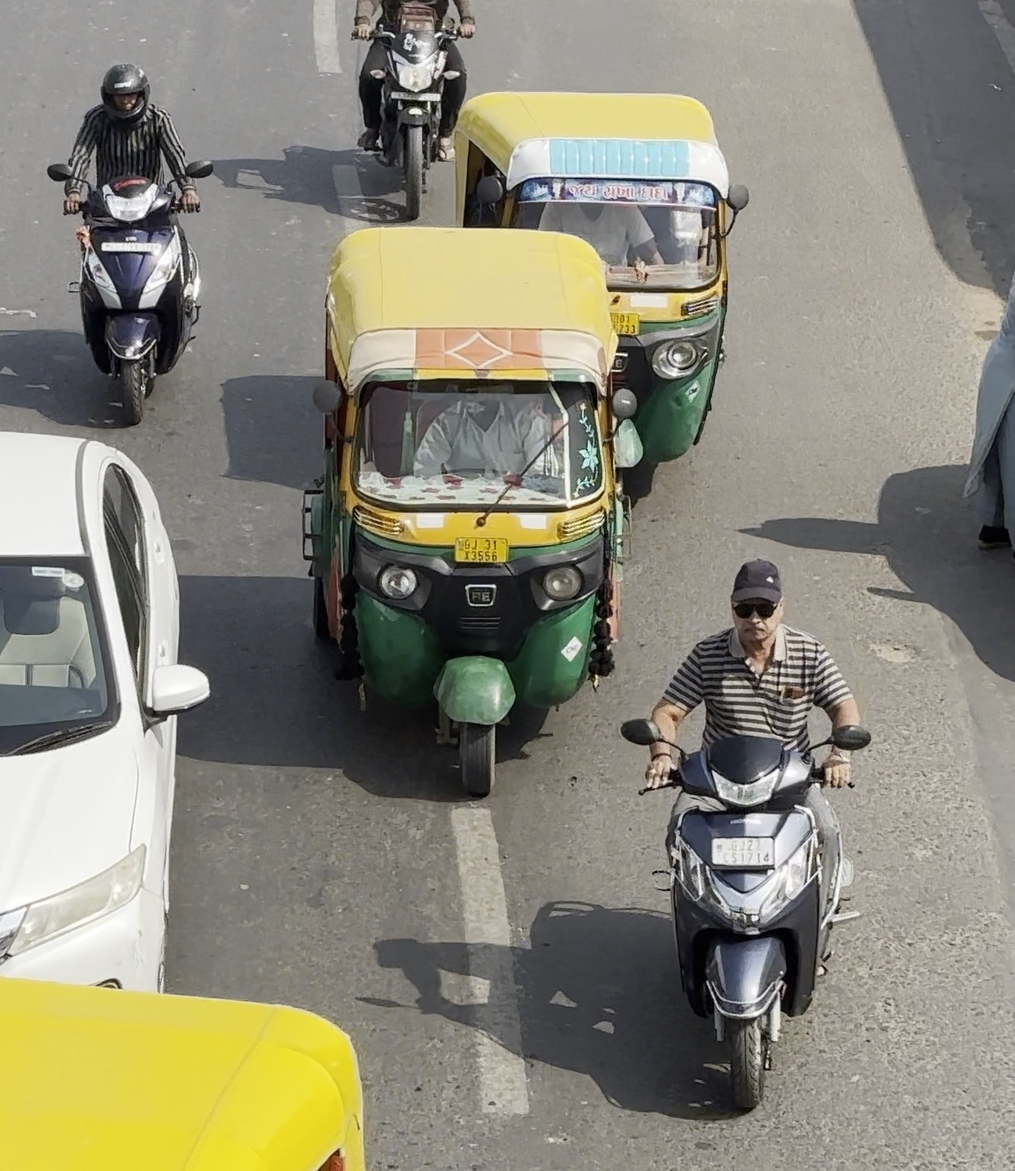BikeWithRider: (612, 552, 876, 1119), (38, 56, 220, 426)
Helmet: (96, 58, 157, 126)
NoHelmet: (725, 556, 786, 649)
